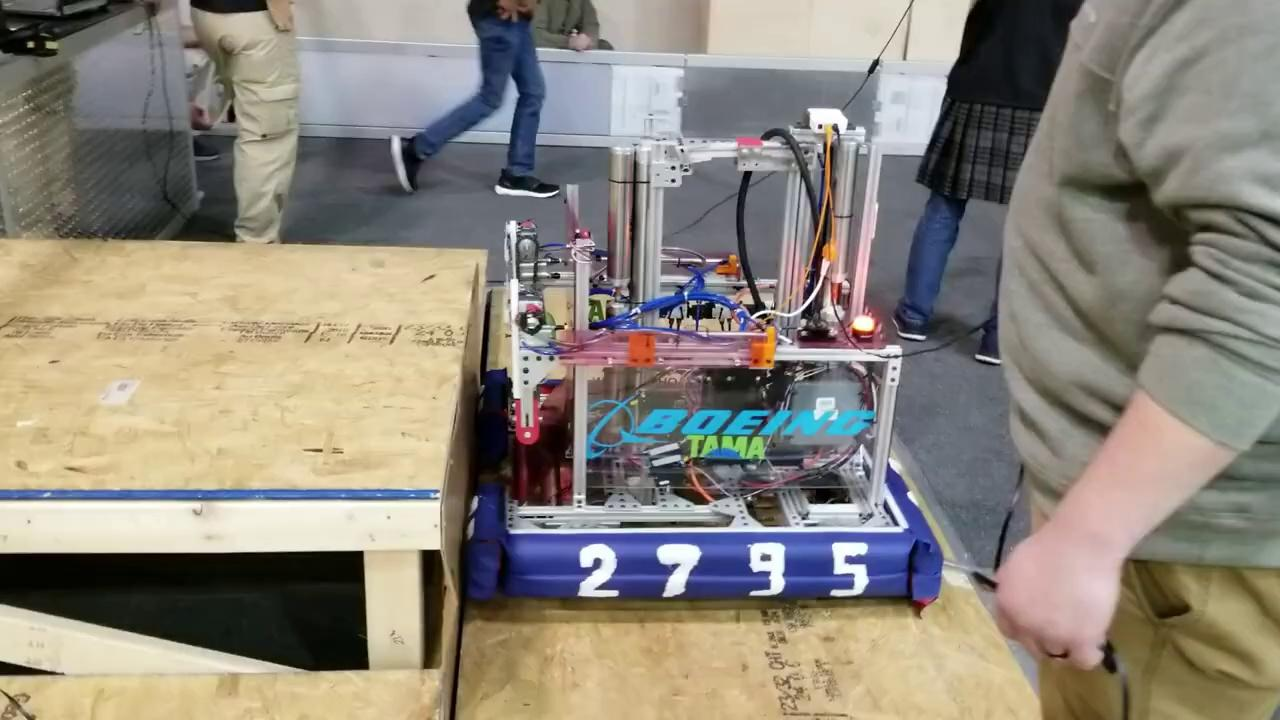robot: (459, 108, 945, 611)
